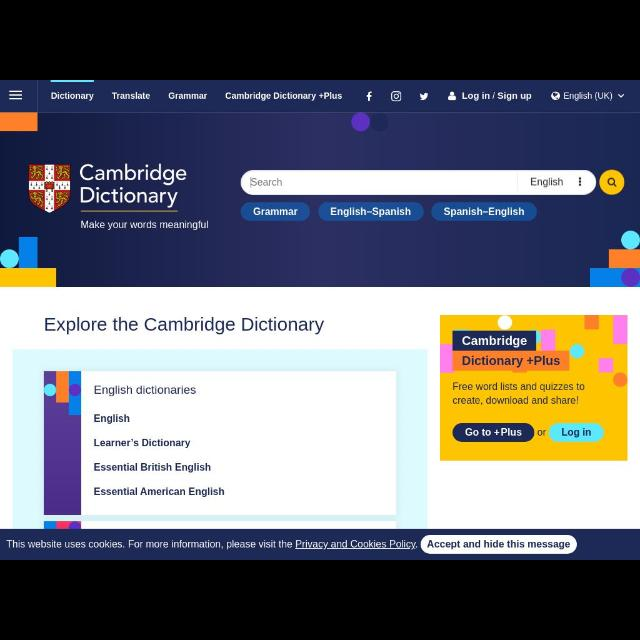button: (0, 80, 38, 112), (598, 170, 626, 197)
icon: (606, 176, 618, 188), (8, 90, 22, 100), (391, 91, 402, 102), (447, 92, 457, 100), (418, 93, 428, 101), (551, 92, 561, 100), (577, 176, 583, 188), (366, 91, 372, 101), (617, 94, 625, 98)
iframe: (1, 529, 639, 559)
image: (440, 315, 628, 461), (27, 164, 71, 214)
input: (240, 170, 598, 196)
spinner: (564, 91, 624, 101)
text: (45, 317, 325, 335), (80, 164, 186, 208), (6, 540, 418, 550), (428, 540, 570, 550), (95, 487, 225, 497), (80, 220, 210, 230), (94, 385, 196, 397), (225, 91, 342, 101), (95, 463, 212, 473), (94, 439, 190, 449), (331, 207, 411, 217), (444, 208, 524, 218), (462, 92, 532, 101), (564, 91, 612, 101), (252, 208, 298, 216), (94, 414, 130, 424), (530, 178, 564, 188), (52, 92, 94, 100), (168, 92, 208, 100), (112, 92, 150, 100), (252, 178, 282, 186)
textbutton: (420, 535, 578, 555), (318, 202, 424, 222), (431, 202, 537, 222), (240, 202, 310, 222)
toolbar: (1, 81, 637, 112)
